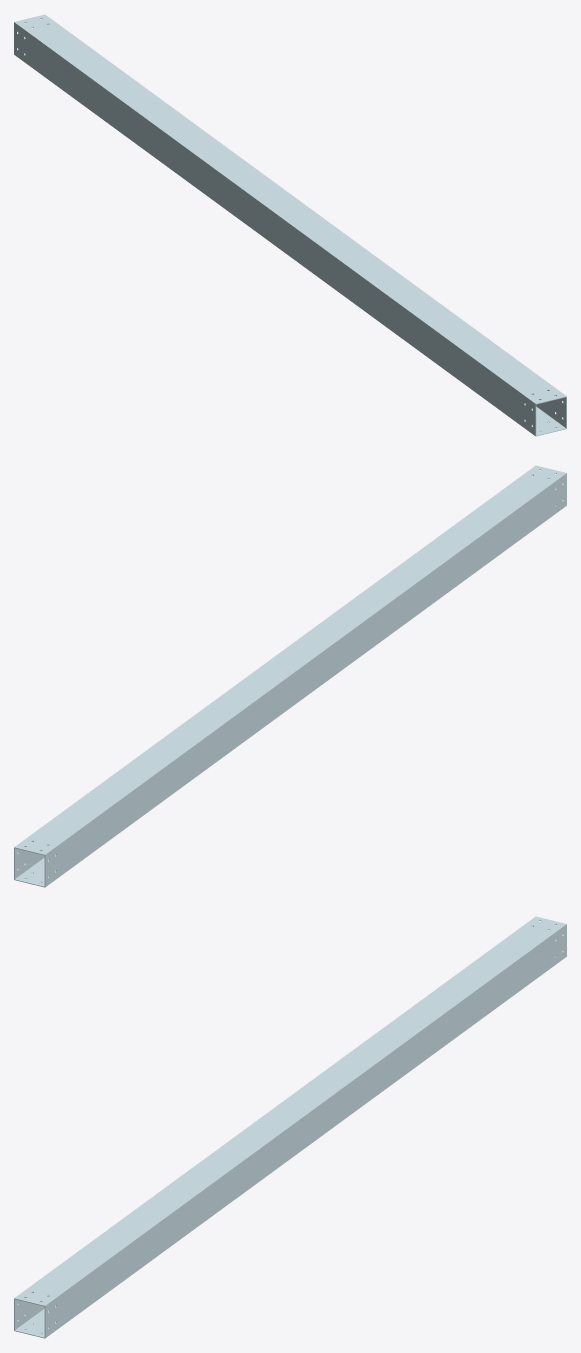
3 renders of one model, top to bottom at view 1: azimuth 30°, elevation 25°; view 2: azimuth 150°, elevation 25°; view 3: azimuth 330°, elevation 25°, orthographic.
Visible parts, largest first — view 1: <组件#27>_1; view 2: <组件#27>_1; view 3: <组件#27>_1.
Part boxes in pixels (left/top/right/bottom): <组件#27>_1: left=14, top=14, right=566, bottom=436; <组件#27>_1: left=14, top=465, right=566, bottom=887; <组件#27>_1: left=14, top=916, right=566, bottom=1338.
Bounding box in the file's own units: 7.87 × 7.87 × 228.
